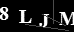8: (1, 6, 8, 21)
J: (38, 13, 49, 28)
L: (18, 9, 32, 24)
M: (58, 11, 74, 26)
